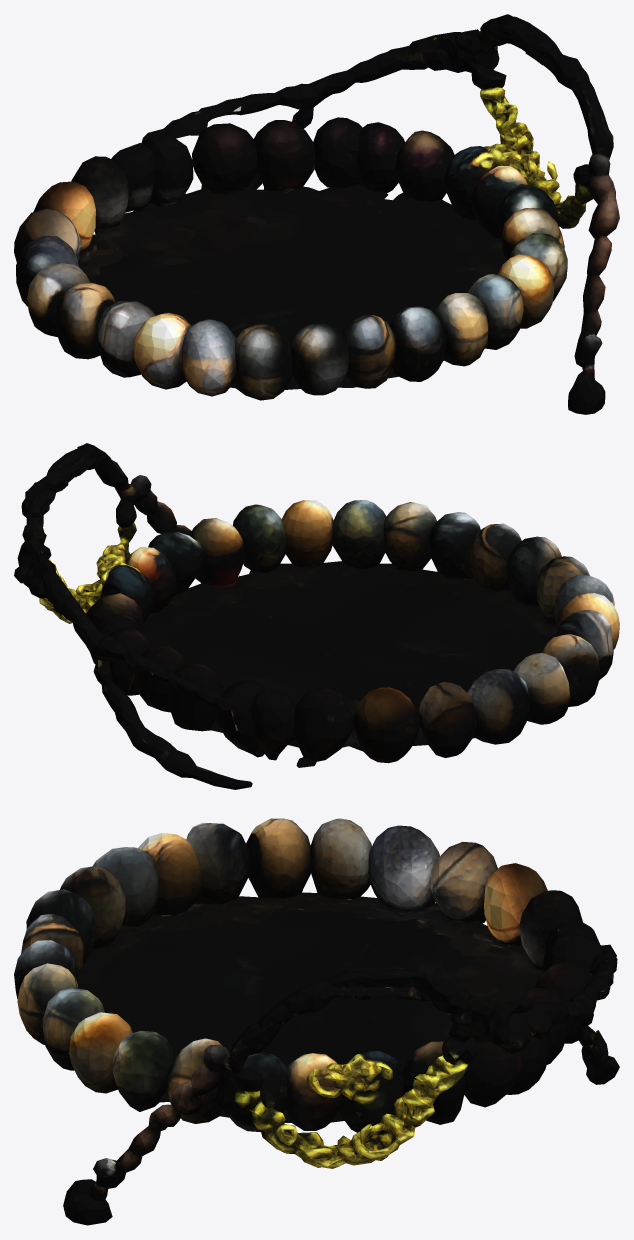
Rendered from lava-stone-bead-necklace-vintage.jpeg.glb.
The picture shows the model from 3 angles, top to bottom: view 1: azimuth 30°, elevation 25°; view 2: azimuth 150°, elevation 25°; view 3: azimuth 270°, elevation 25°; orthographic projection. The views are drawn at different scales.
Visible parts, largest first — view 1: world; view 2: world; view 3: world.
Part boxes in pixels (<box>): world: <box>14,14,619,414</box>; world: <box>14,443,619,789</box>; world: <box>14,818,619,1225</box>.
Size of the model in its own units: 1 by 0.4668 by 0.8872.
Materials: 1 (1 with a texture image).
